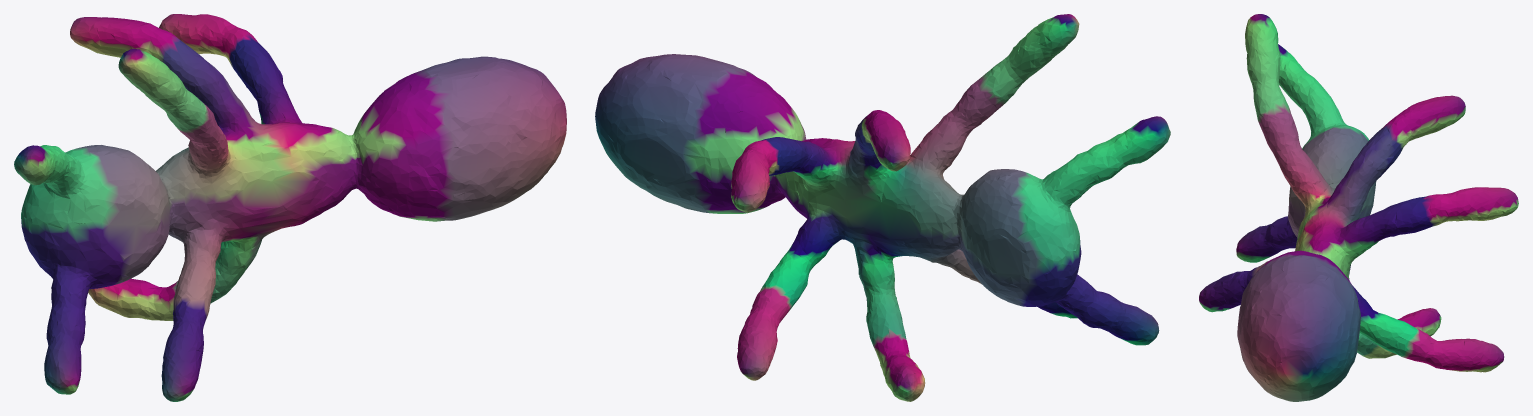
File: ant-13.off.obj
3 views of the same model, side by side, from view 1: azimuth 30°, elevation 25°; view 2: azimuth 150°, elevation 25°; view 3: azimuth 270°, elevation 25° (orthographic). The views are drawn at different scales.
Size of the model in its own units: 1.72 by 1.02 by 0.9835.
